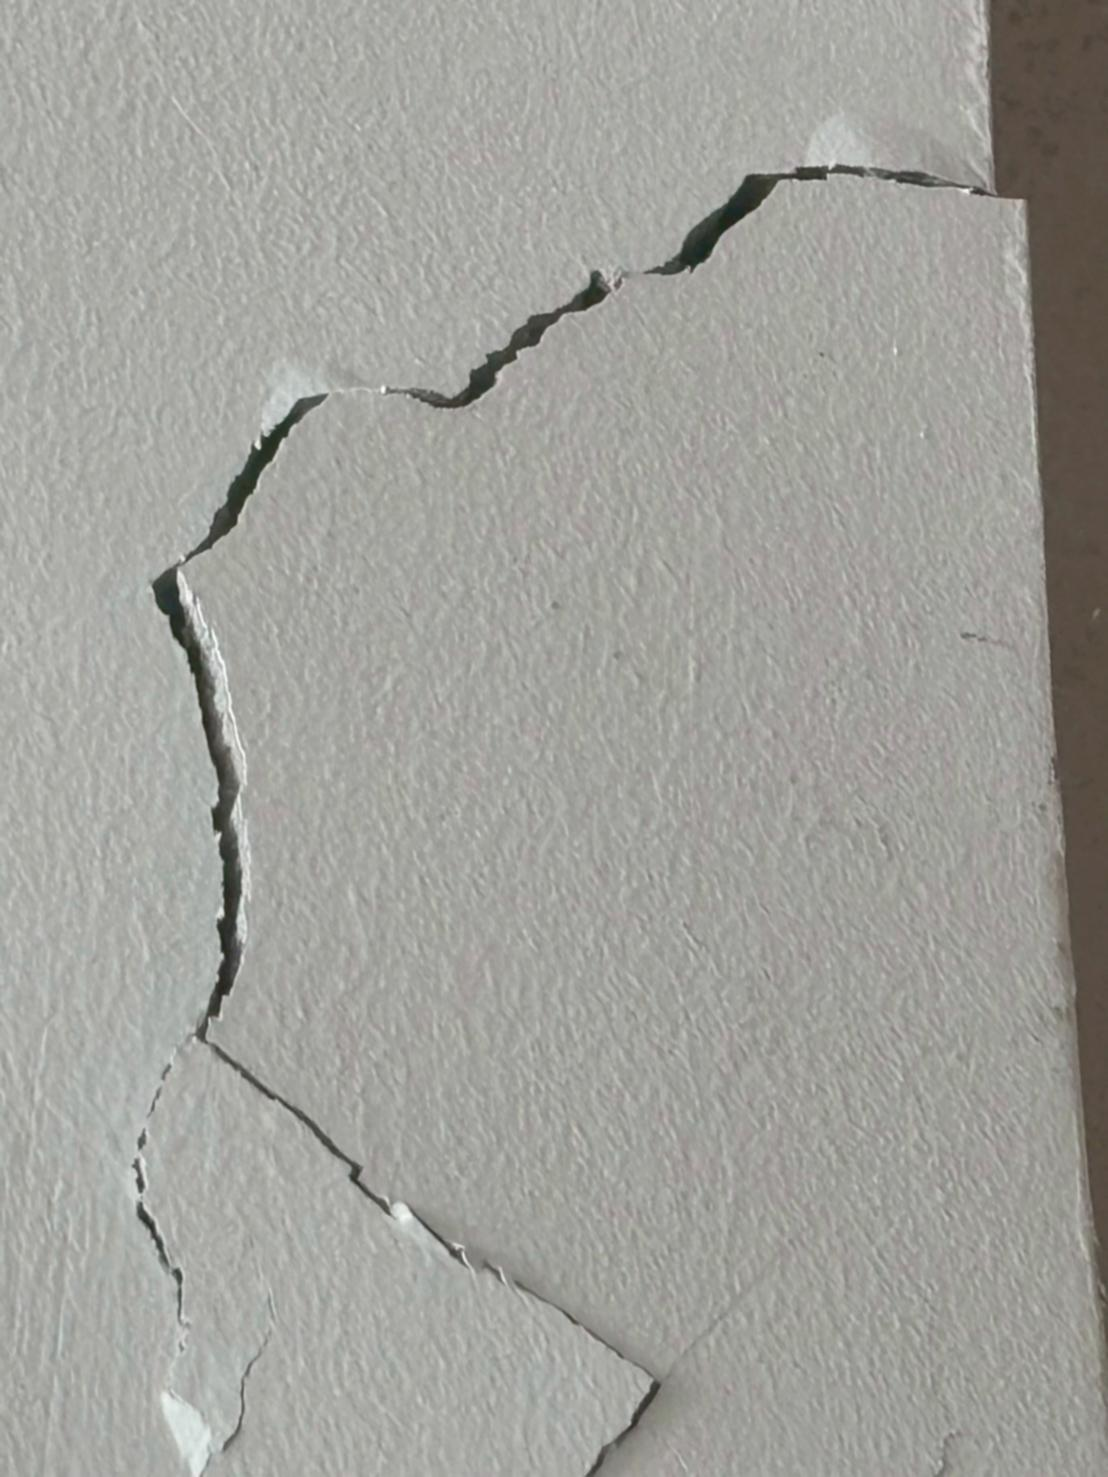High: (87, 139, 1068, 1468)
